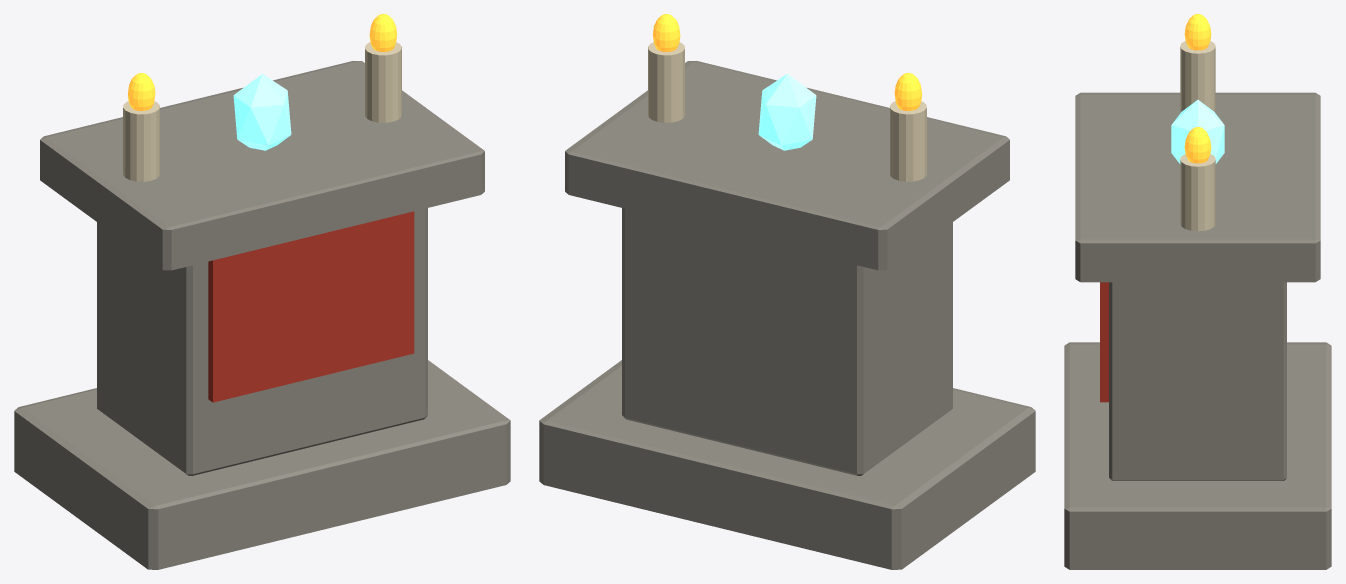
The model's file is altar-lod0.glb.
3 views of the same model, side by side, from view 1: azimuth 30°, elevation 25°; view 2: azimuth 150°, elevation 25°; view 3: azimuth 270°, elevation 25° (orthographic). The views are drawn at different scales.
Visible parts, largest first — view 1: altar; view 2: altar; view 3: altar.
Part boxes in pixels (bbox=[...]): altar: bbox=[14, 14, 510, 569]; altar: bbox=[539, 14, 1035, 569]; altar: bbox=[1064, 14, 1331, 569].
Bounding box in the file's own units: 0.9 × 1.03 × 0.6.
